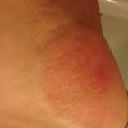Cellulitis: (38, 14, 111, 96)
